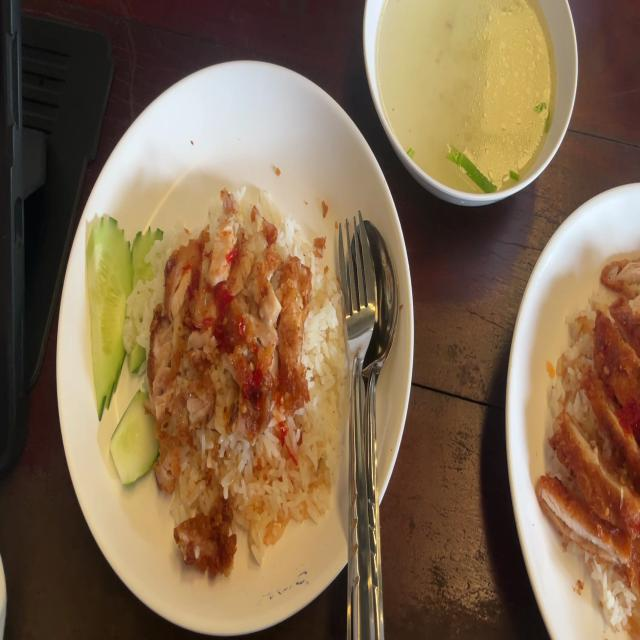chicken_rice: (85, 181, 349, 584), (540, 255, 640, 639)
cucumber: (85, 208, 166, 412), (110, 385, 164, 486)
fried_chicken: (150, 218, 304, 456), (541, 257, 640, 567), (167, 480, 234, 584)
